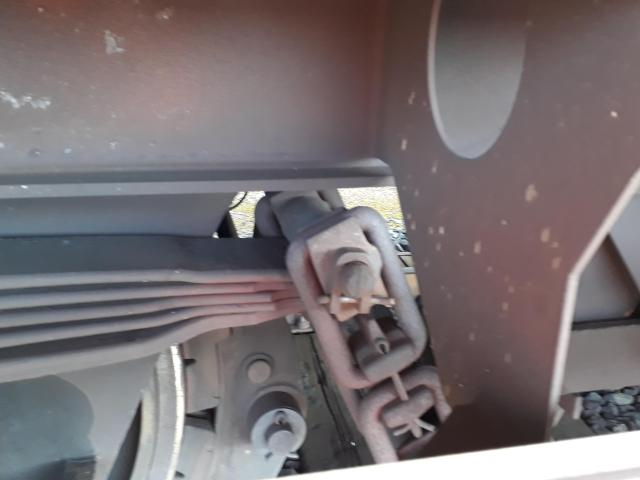blattfederww: (1, 231, 277, 379)
